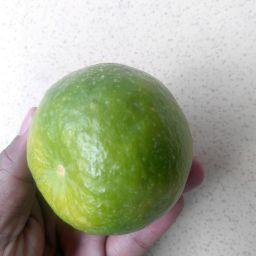Unripe: (27, 65, 193, 237)
